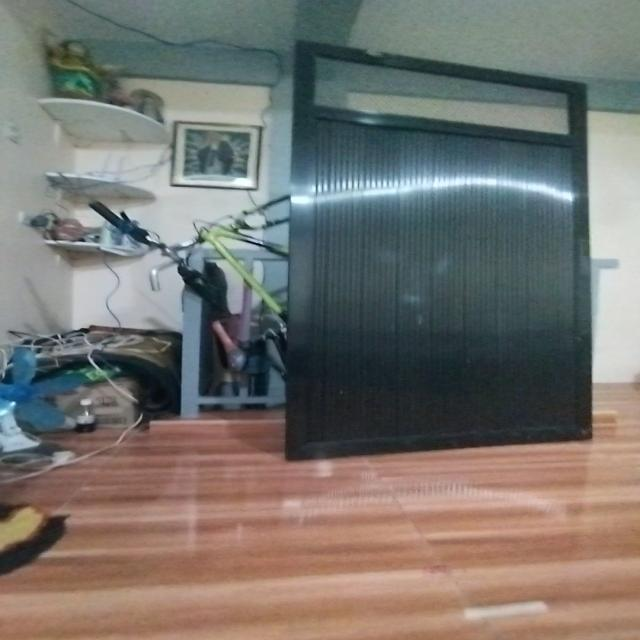door: (275, 49, 608, 466)
